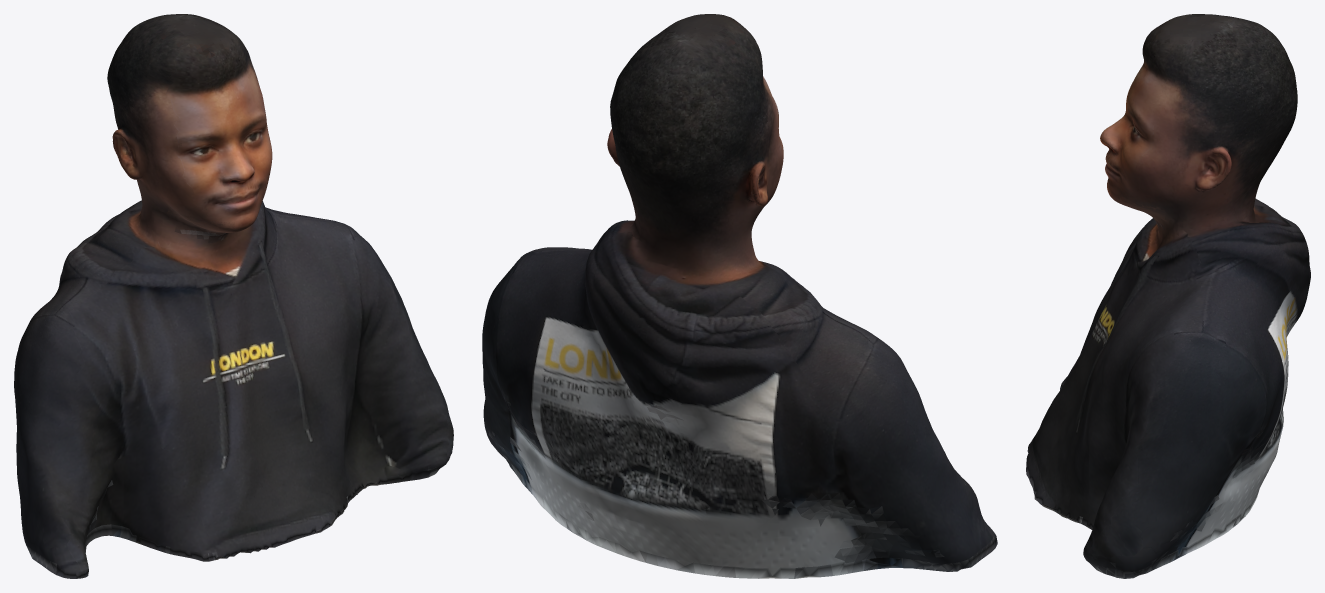
3 views of the same model, side by side, from view 1: azimuth 30°, elevation 25°; view 2: azimuth 150°, elevation 25°; view 3: azimuth 270°, elevation 25° (orthographic). The views are drawn at different scales.
Visible parts, largest first — view 1: ArcsoftMeshes0; view 2: ArcsoftMeshes0; view 3: ArcsoftMeshes0.
Boxes of the visible parts, bbox=[...] form: ArcsoftMeshes0: bbox=[14, 14, 453, 578]; ArcsoftMeshes0: bbox=[482, 14, 997, 578]; ArcsoftMeshes0: bbox=[1026, 14, 1310, 578].
Size of the model in its own units: 553 by 575 by 326.
1 material, 1 textured.
